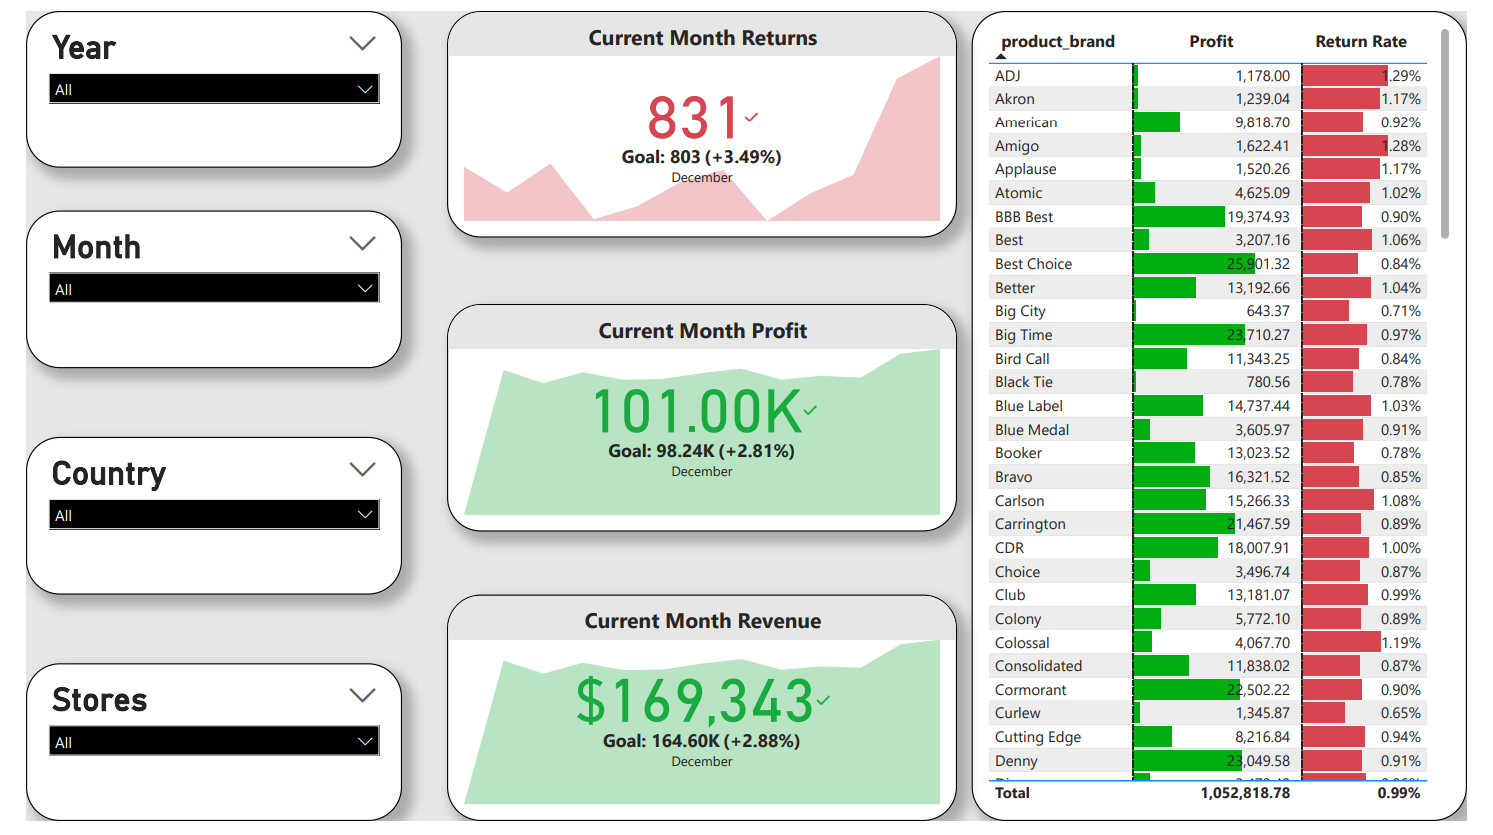

This screenshot's page, from the dashboard's own definition file:
{"tool":"powerbi","page":{"name":"Profits & Returns","canvas":[1280,720],"ordinal":2},"visuals":[{"type":"tableEx","fields":{"Values":["MavenMarket_Products.product_brand","Calculations.Profit","Calculations.Return Rate"]},"box":[839.8,0,440.5,720.4],"z":0},{"type":"kpi","title":"Current Month Profit","fields":{"Goal":["Calculations.Last Month Profit"],"TrendLine":["MavenMarket_Calendar.date.Variation.Date Hierarchy.Month"],"Indicator":["Calculations.Profit"]},"box":[374.2,260.8,452.3,201.8],"z":1000},{"type":"slicer","fields":{"Values":["MavenMarket_Calendar.date.Variation.Date Hierarchy.Month"]},"box":[0,178.3,334.4,140],"z":2000},{"type":"kpi","title":"Current Month Revenue","fields":{"Goal":["Calculations.Last Month Revenue"],"TrendLine":["MavenMarket_Calendar.date.Variation.Date Hierarchy.Month"],"Indicator":["Calculations.Gross Revenue"]},"box":[374.2,518.6,452.3,201.8],"z":3000},{"type":"slicer","fields":{"Values":["MavenMarket_Calendar.date.Variation.Date Hierarchy.Year"]},"box":[0,0,334.4,140],"z":4000},{"type":"kpi","title":"Current Month Returns","fields":{"TrendLine":["MavenMarket_Calendar.date.Variation.Date Hierarchy.Month"],"Goal":["Calculations.Last Month Returns"],"Indicator":["Calculations.Quantity Returned"]},"box":[374.2,0,452.3,201.8],"z":5000},{"type":"slicer","fields":{"Values":["MavenMarket_Stores.store_country"]},"box":[0,378.6,334.4,140],"z":6000},{"type":"slicer","fields":{"Values":["MavenMarket_Stores.store_name"]},"box":[0,580.5,334.4,140],"z":7000}]}

Visuals, with their boxes in screenshot pixels (x1, y1, x2, y2), scaled from the page's 1280x720 canvas onto the 1493x835 screenshot:
tableEx - MavenMarket_Products.product_brand x Calculations.Profit: [left=980, top=0, right=1492, bottom=834]
"Current Month Profit" kpi: [left=436, top=302, right=964, bottom=536]
slicer - MavenMarket_Calendar.date.Variation.Date Hierarchy.Month: [left=0, top=207, right=390, bottom=369]
"Current Month Revenue" kpi: [left=436, top=601, right=964, bottom=834]
slicer - MavenMarket_Calendar.date.Variation.Date Hierarchy.Year: [left=0, top=0, right=390, bottom=162]
"Current Month Returns" kpi: [left=436, top=0, right=964, bottom=234]
slicer - MavenMarket_Stores.store_country: [left=0, top=439, right=390, bottom=601]
slicer - MavenMarket_Stores.store_name: [left=0, top=673, right=390, bottom=834]
